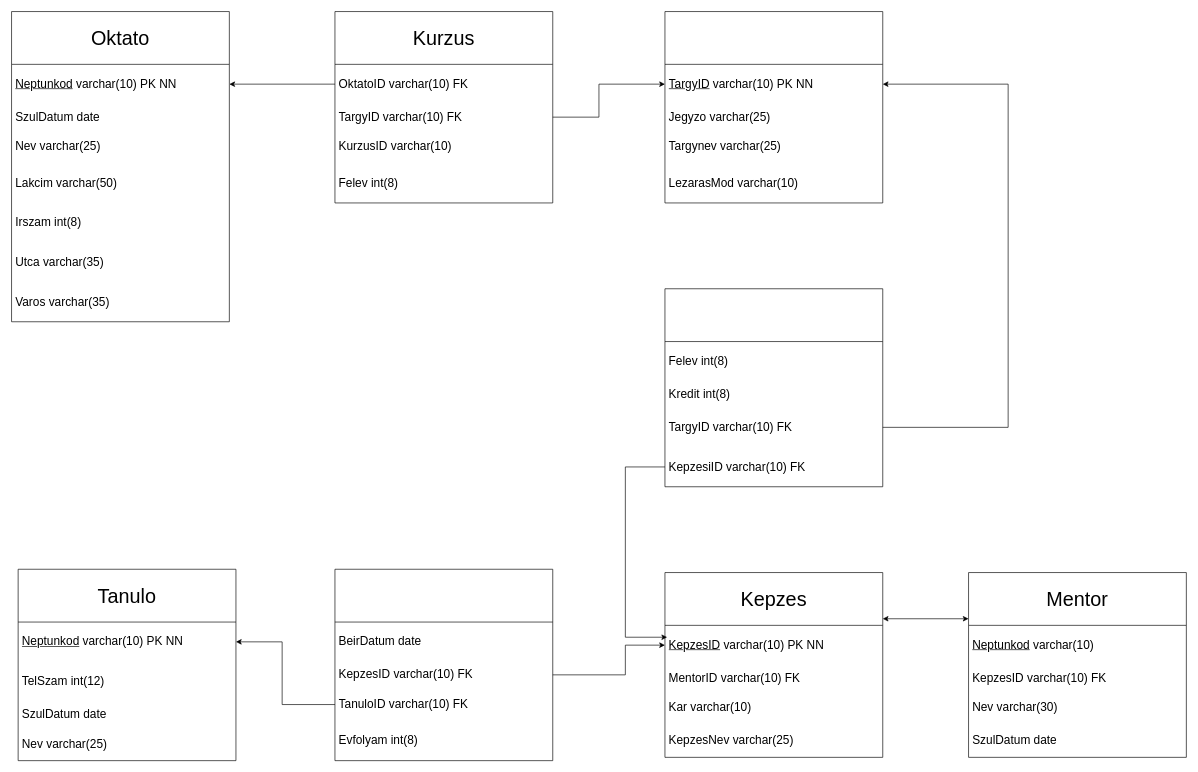
The diagram is 1198 pixels wide and 772 high, and some of its shapes have lost their labels. The shapes that lost their labels are listed below. From the top down, each one's box as (x1, y1, x2, y2) in pixels, then its label:
(664, 11, 883, 203): Tantargy
(664, 288, 883, 487): Utemterv
(334, 569, 553, 761): Jelentkezes
